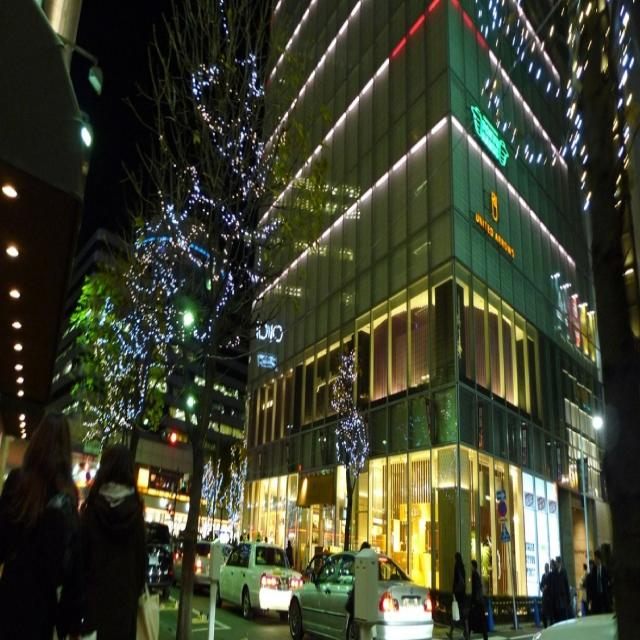body: (0, 405, 81, 639), (66, 441, 149, 639), (443, 549, 473, 639), (344, 540, 371, 621), (462, 559, 488, 640), (589, 548, 610, 614), (225, 526, 270, 552), (555, 556, 571, 622), (539, 562, 550, 630), (582, 557, 595, 609), (578, 562, 588, 604), (285, 539, 294, 569), (550, 558, 555, 572)
